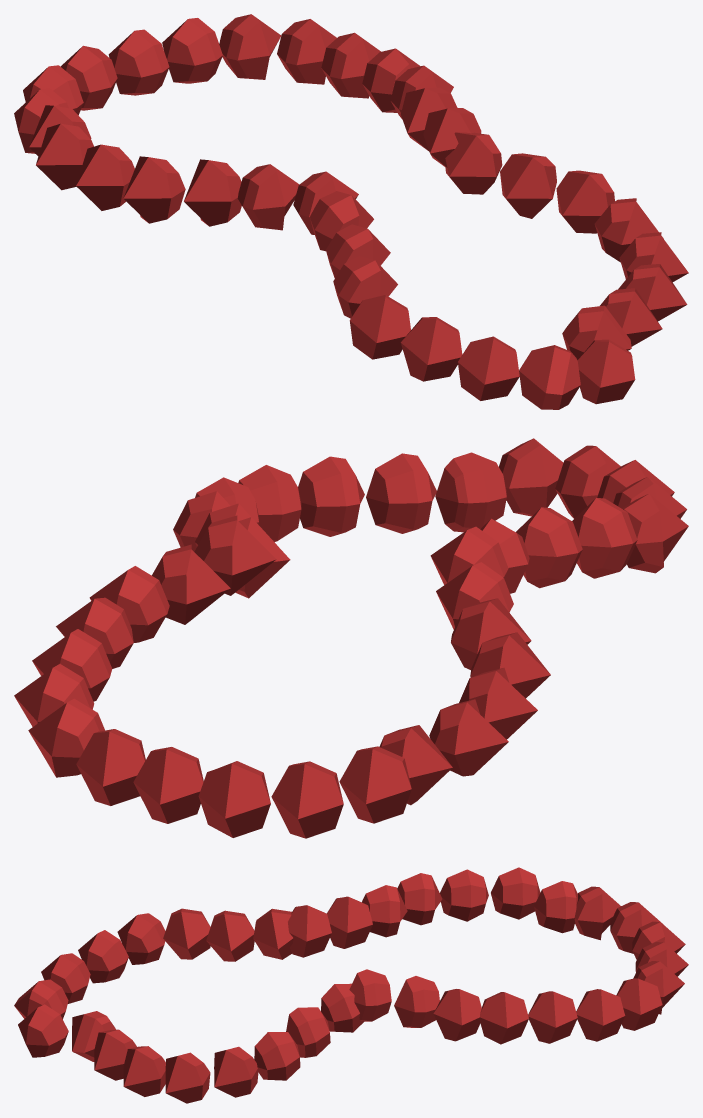
The model's file is Necklace.fbx.
3 renders of one model, top to bottom at view 1: azimuth 30°, elevation 25°; view 2: azimuth 150°, elevation 25°; view 3: azimuth 270°, elevation 25°, orthographic. The views are drawn at different scales.
Visible parts, largest first — view 1: Necklace; view 2: Necklace; view 3: Necklace.
Part boxes in pixels (left/top/right/bottom): Necklace: left=14, top=14, right=688, bottom=409; Necklace: left=14, top=438, right=688, bottom=838; Necklace: left=14, top=867, right=688, bottom=1103.
Size of the model in its own units: 22.95 by 38.15 by 6.78.
